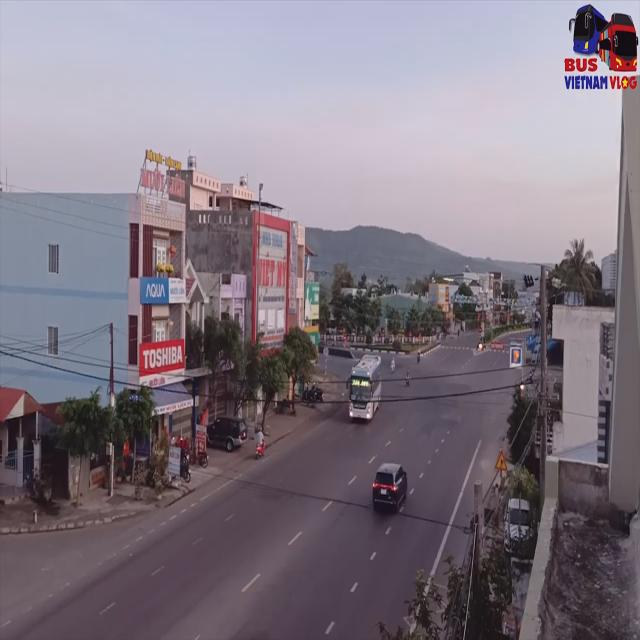car: (370, 463, 408, 515)
motorbike: (254, 431, 266, 463)
truck: (347, 352, 383, 424)
